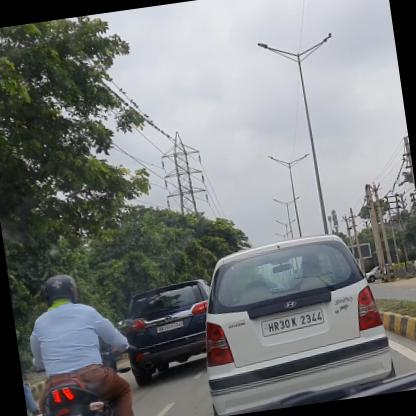car: (190, 226, 401, 415), (118, 276, 224, 387), (364, 262, 398, 283)
motorcycle: (18, 266, 143, 415)
